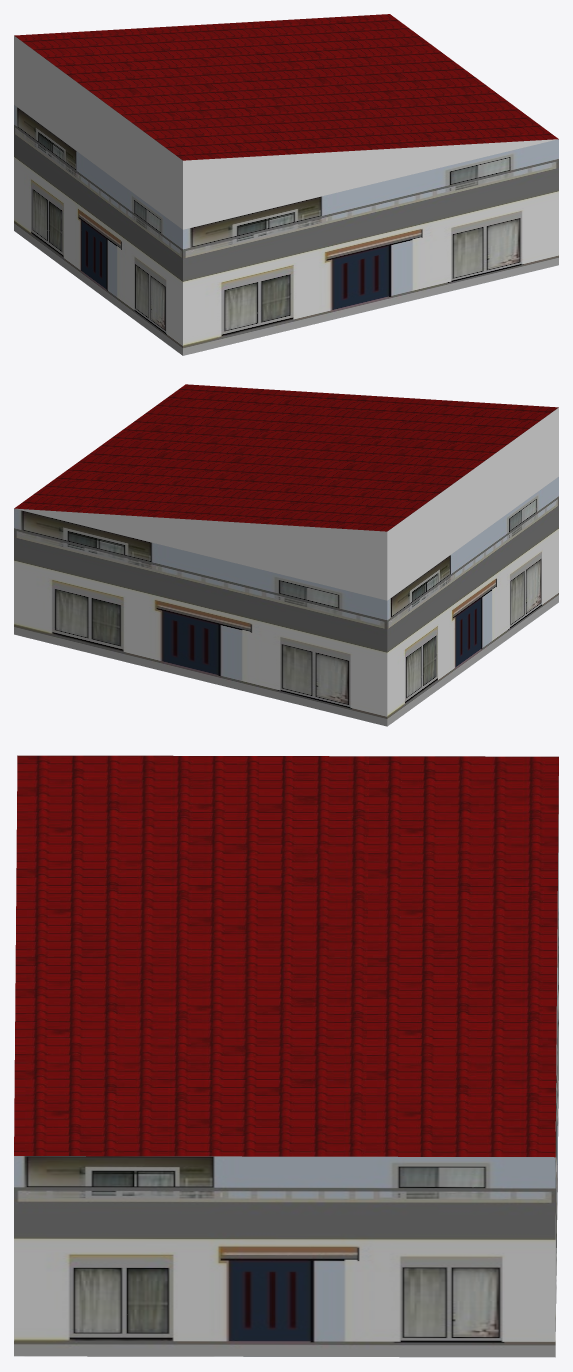
The picture shows the model from 3 angles, top to bottom: view 1: azimuth 30°, elevation 25°; view 2: azimuth 150°, elevation 25°; view 3: azimuth 270°, elevation 25°; orthographic projection. The views are drawn at different scales.
Visible parts, largest first — view 1: CityEngineMaterial_7_m, CityEngineMaterial_17_m, CityEngineMaterial_3_m; view 2: CityEngineMaterial_7_m, CityEngineMaterial_17_m, CityEngineMaterial_3_m; view 3: CityEngineMaterial_17_m, CityEngineMaterial_7_m.
Boxes of the visible parts, box(x1,y1,x2,y2) form: CityEngineMaterial_7_m: box(14, 105, 558, 355); CityEngineMaterial_17_m: box(14, 14, 558, 160); CityEngineMaterial_3_m: box(14, 36, 557, 229); CityEngineMaterial_7_m: box(14, 477, 558, 726); CityEngineMaterial_17_m: box(14, 384, 558, 531); CityEngineMaterial_3_m: box(15, 407, 558, 600); CityEngineMaterial_17_m: box(14, 755, 558, 1157); CityEngineMaterial_7_m: box(14, 880, 558, 1357).
Bounding box in the file's own units: 19.63 × 9.73 × 15.49.
